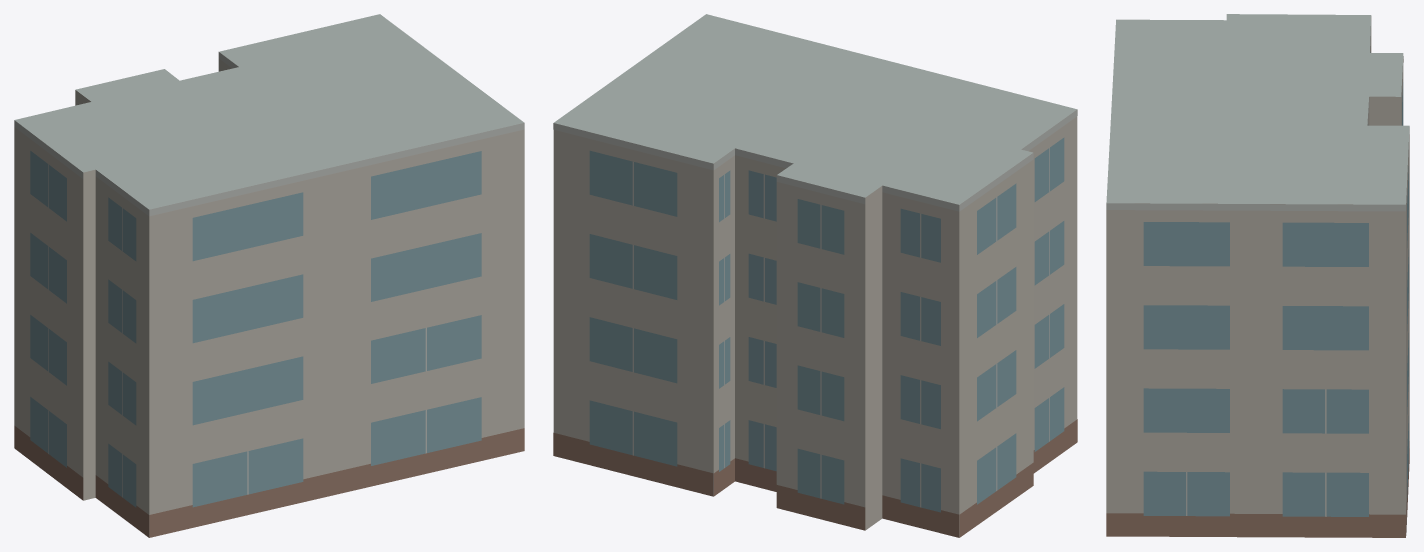
File: survey-upis-32735237.glb
3 views of the same model, side by side, from view 1: azimuth 30°, elevation 25°; view 2: azimuth 150°, elevation 25°; view 3: azimuth 270°, elevation 25° (orthographic).
Parts seen in each view (by area): view 1: survey-upis-32735237.tmp; view 2: survey-upis-32735237.tmp; view 3: survey-upis-32735237.tmp.
Boxes of the visible parts, left/top/right/bottom form: survey-upis-32735237.tmp: left=14, top=14, right=524, bottom=537; survey-upis-32735237.tmp: left=553, top=14, right=1077, bottom=537; survey-upis-32735237.tmp: left=1106, top=14, right=1409, bottom=537.
Size of the model in its own units: 14.74 by 12 by 9.91.
